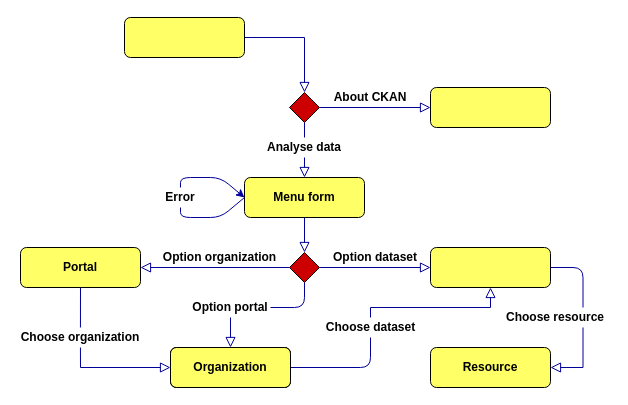
Image size: 628x405. Some labels were removed from this diagram. Each missing label, with the centre of its shape:
"ckan.org" goes at pixel 490 107.
"Dataset" goes at pixel 490 267.
"Welcome page" goes at pixel 184 37.
